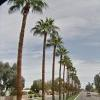Tree: (20, 13, 79, 72)
